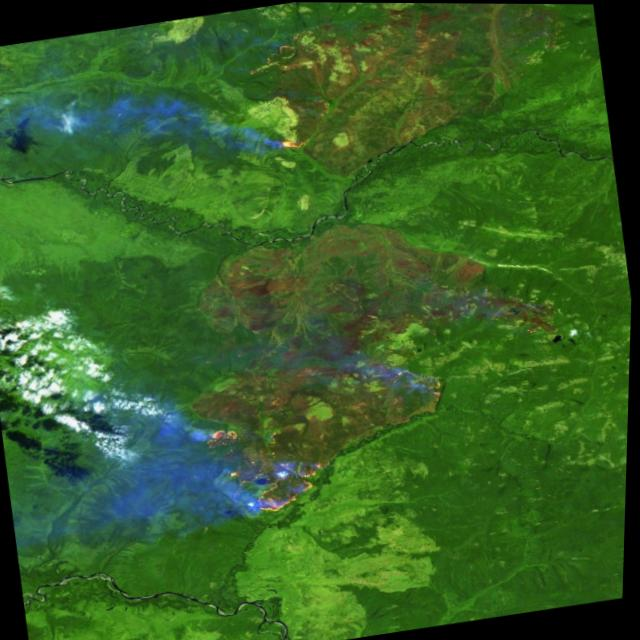fire: (203, 408, 340, 523), (270, 126, 323, 161)
